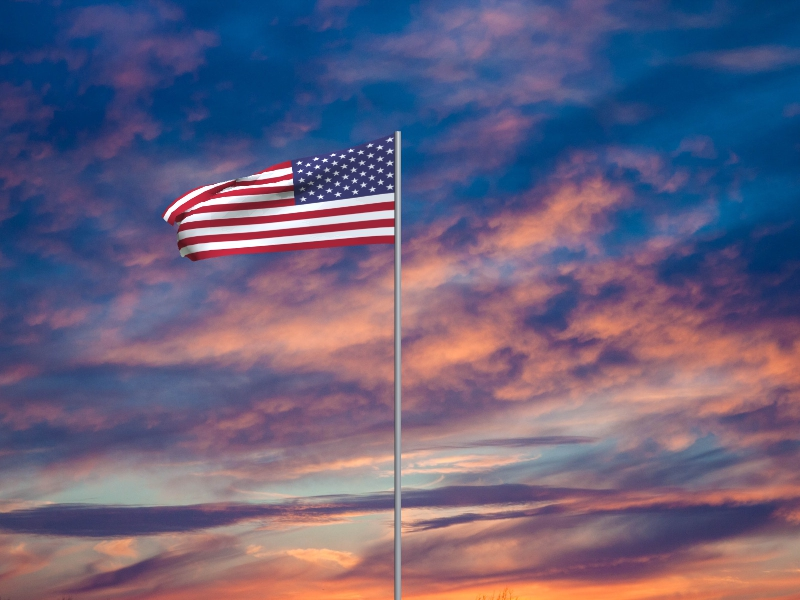us: (161, 133, 395, 262)
